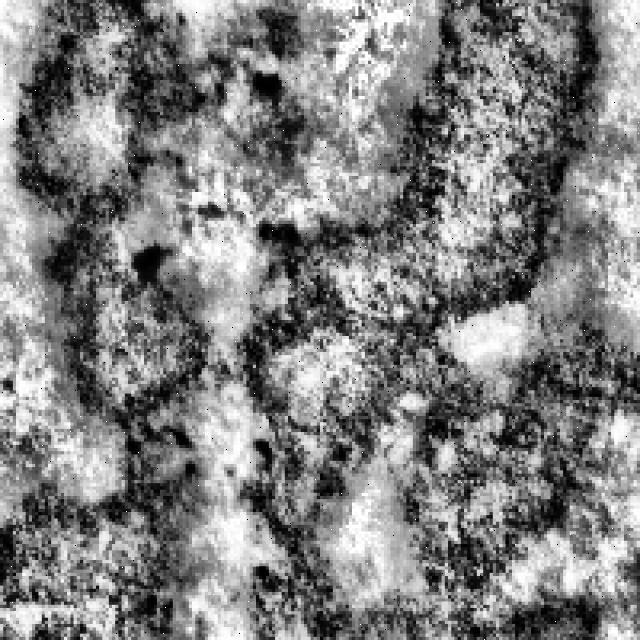Scratches: (218, 205, 451, 637), (16, 0, 243, 416), (371, 0, 621, 346), (429, 276, 640, 614), (12, 432, 212, 637)
